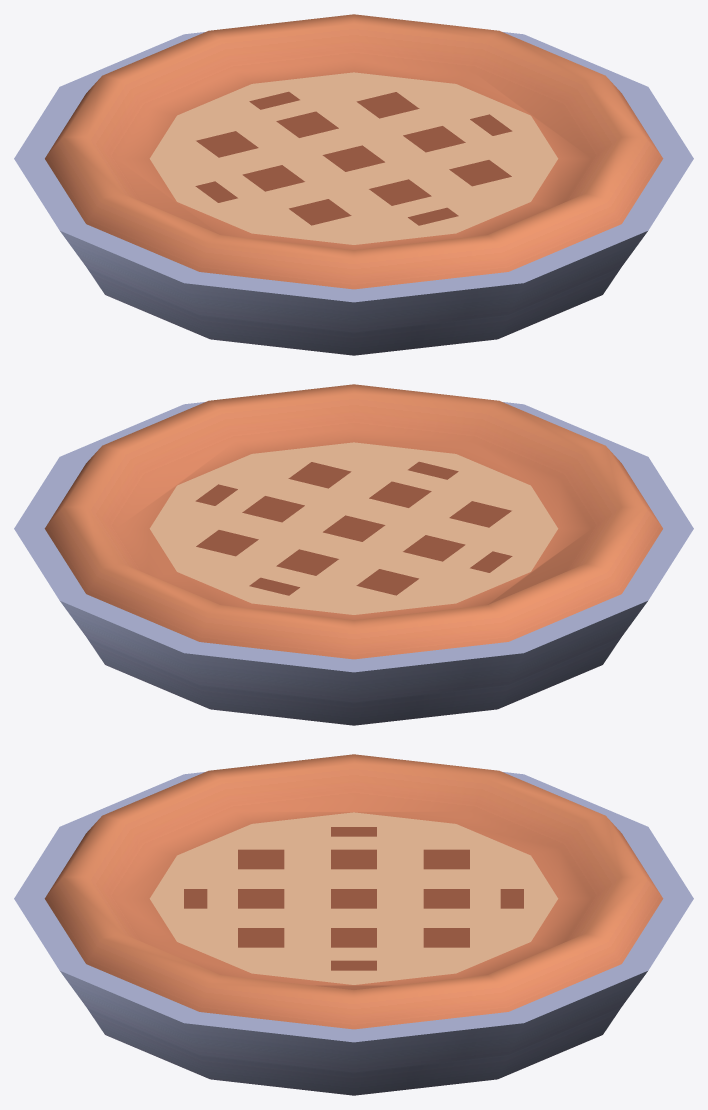
File: pie.glb
3 views of the same model, one above another, from view 1: azimuth 30°, elevation 25°; view 2: azimuth 150°, elevation 25°; view 3: azimuth 270°, elevation 25° (orthographic).
Parts seen in each view (by area): view 1: pie; view 2: pie; view 3: pie.
Part boxes in pixels (x1,y1,x2,y2): pie: [14, 14, 693, 355]; pie: [14, 384, 693, 725]; pie: [14, 754, 693, 1095].
Bounding box in the file's own units: 0.9504 × 0.1497 × 0.9504.
1 material, 1 textured.
